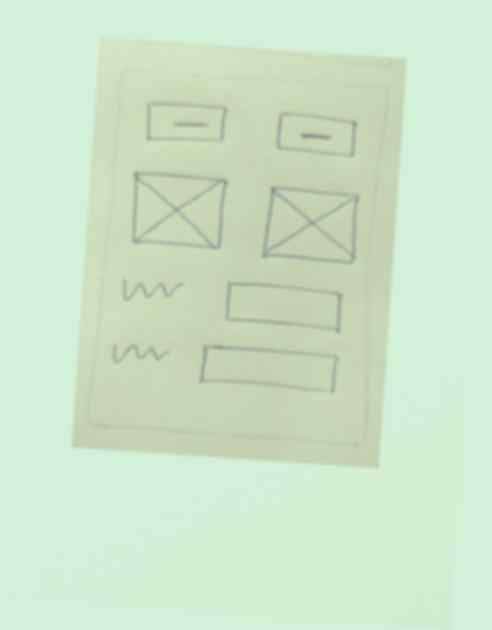button: (270, 104, 363, 168), (139, 95, 231, 155)
image: (254, 182, 363, 269), (124, 168, 232, 255)
text: (114, 271, 188, 310), (104, 337, 178, 376)
text_input: (193, 337, 348, 398), (218, 277, 349, 336)
